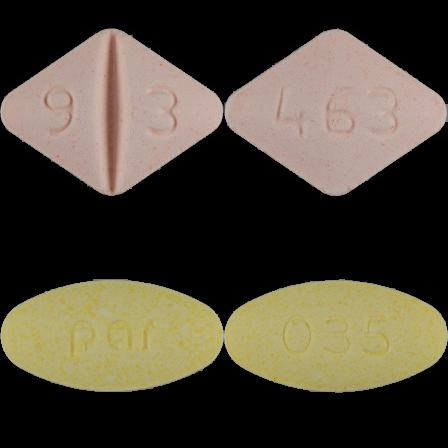76237-263: (0, 0, 224, 224)
